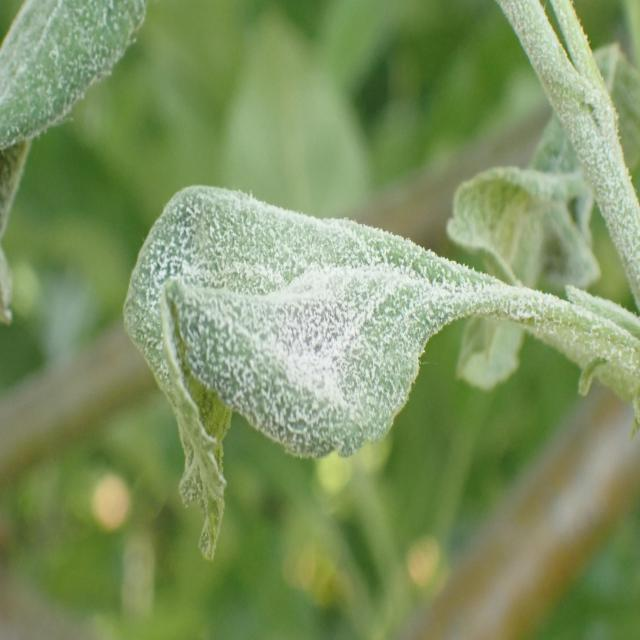Powdery_mildew: (111, 146, 564, 594), (0, 0, 168, 368), (442, 101, 599, 427)
